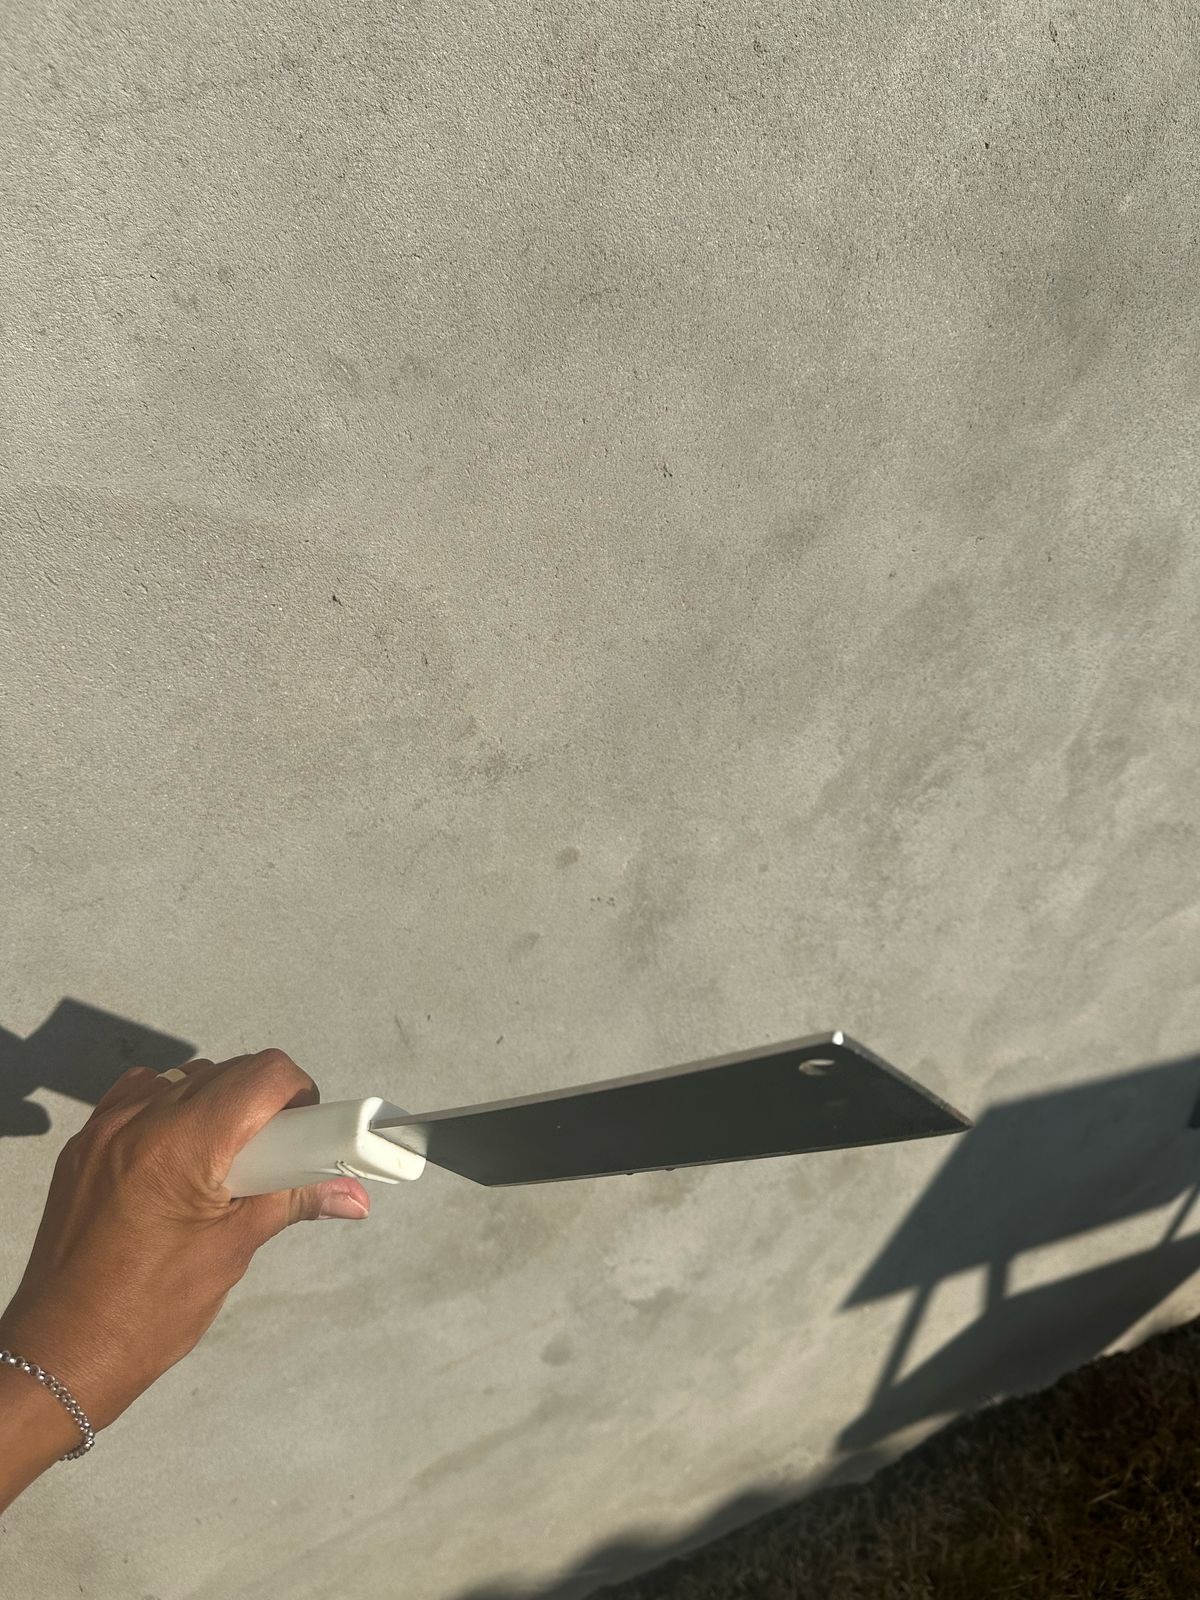faca: (376, 982, 1015, 1197)
